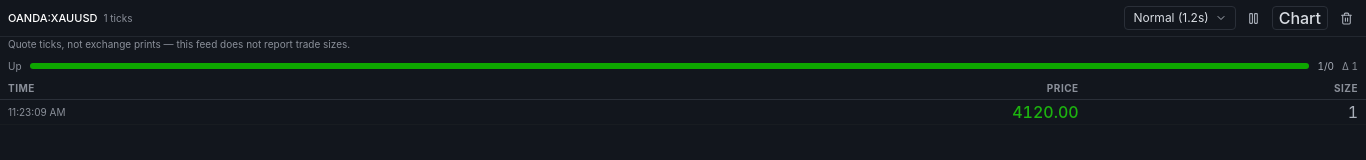
Test: TimeAndSales › clears tape when clear button is clicked
The image size is (1366, 160).
Expected: the text "1 ticks" is shown, [104,11,133,25]
Expected: the text "4120.00" is shown, [512,100,1087,124]
Click the button named "Clear the tape".
click(1346, 18)  # box [1334,6,1358,30]
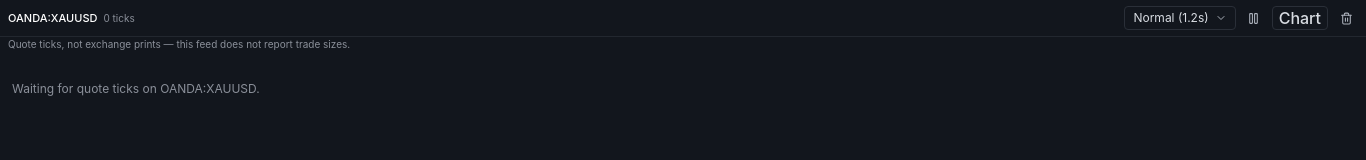
Now the text "0 ticks" is shown, box [104,11,135,25]
Now the text "4120.00" is gone
